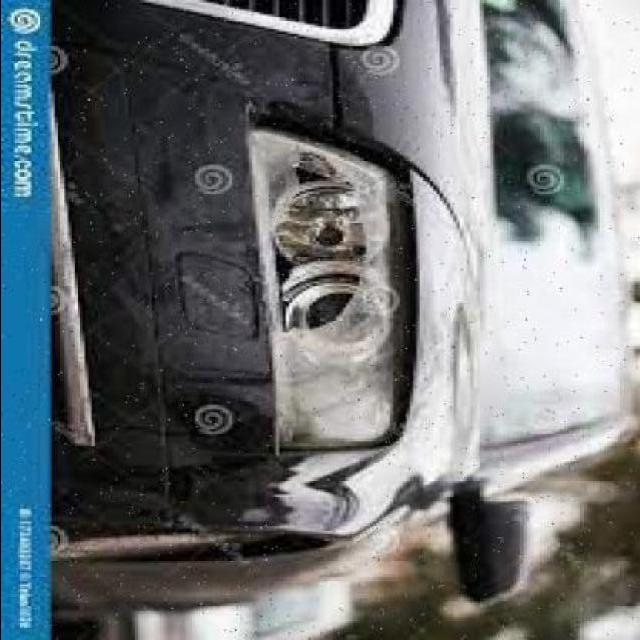Headlight-Damage: (260, 109, 438, 483)
